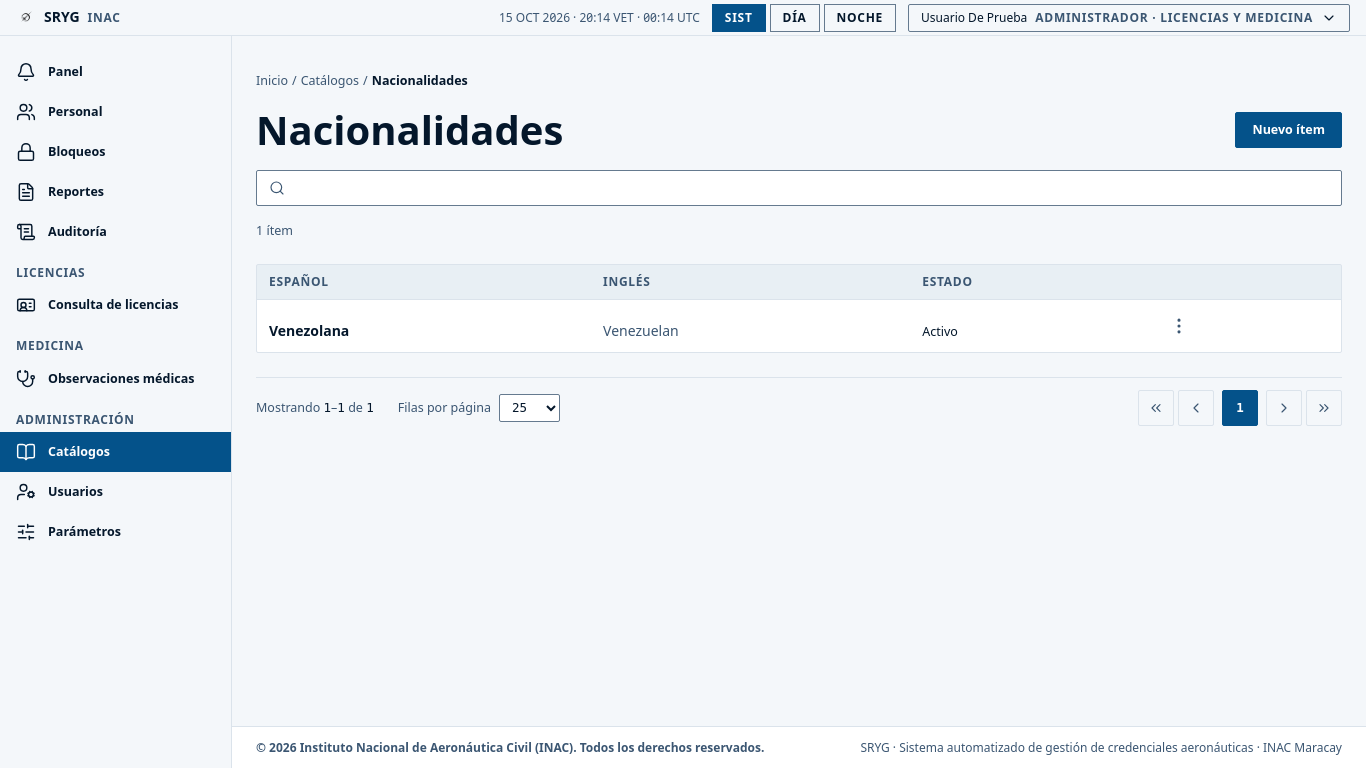
Test case: /catalogos/:catalogo (D19) › edits an item and sends only what changed
Click the button named "Acciones de Venezolana" at point(1179, 326), box [1161,308,1197,344]
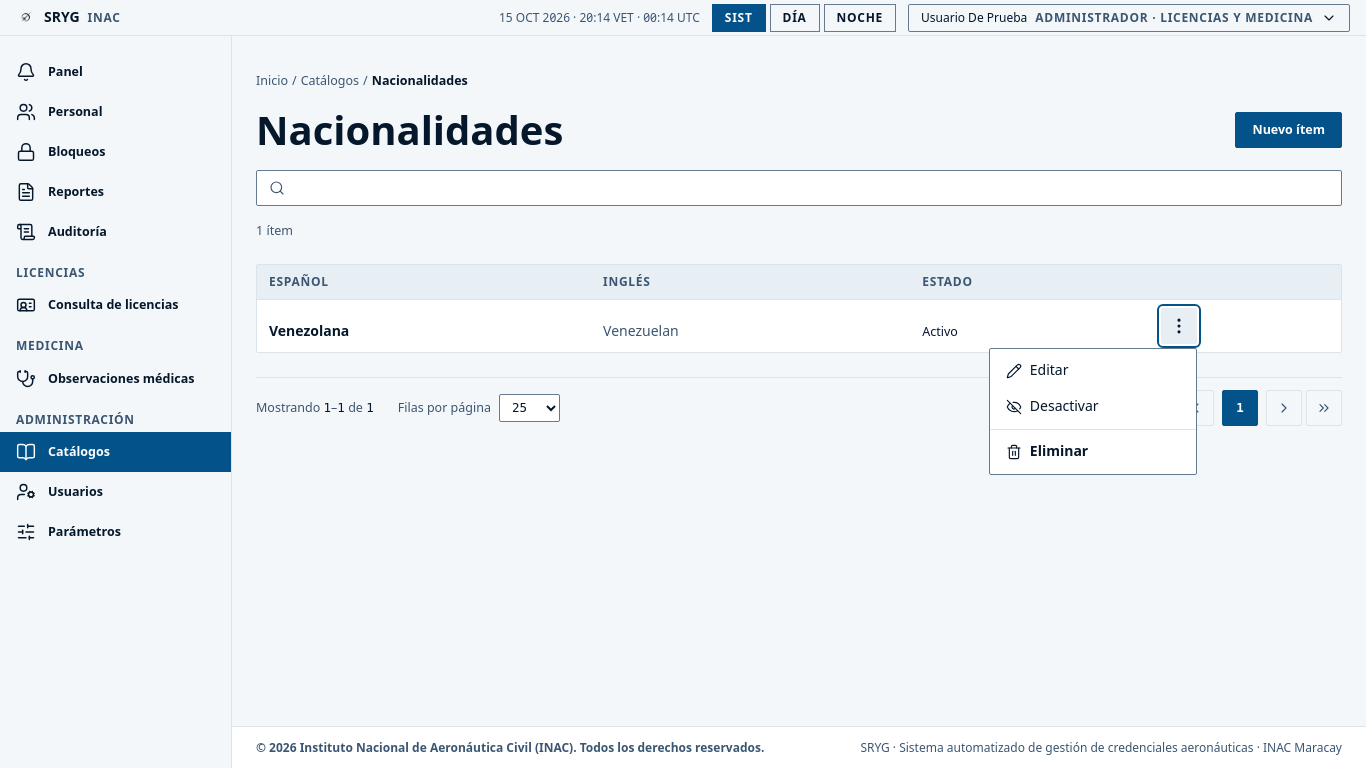
Click the menu item "Editar" at point(1093, 371), box [990,353,1196,389]
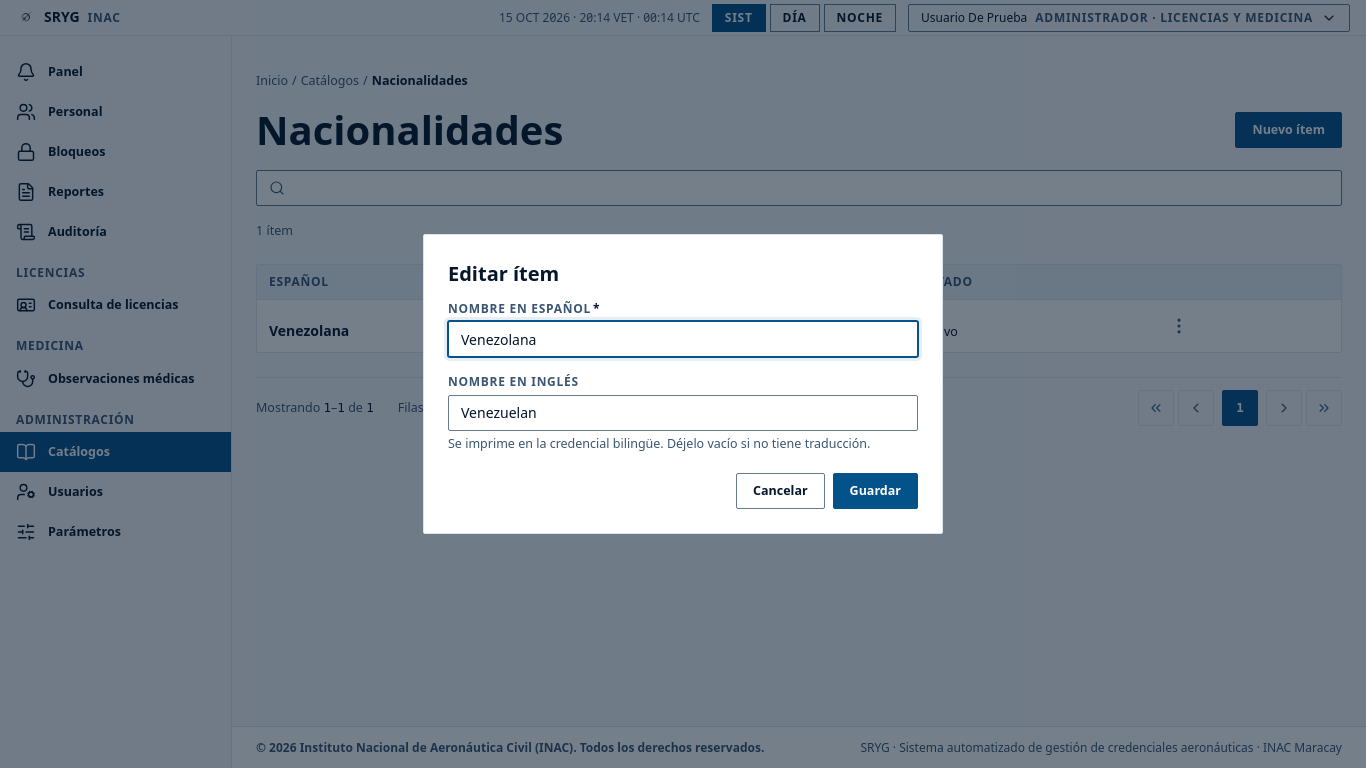
Now the field labelled "Nombre en inglés" holds "Venezuelan"
Replace the text in the field labelled "Nombre en inglés" with "Venezuelan (VE)" at point(683, 413), box [448,395,918,431]
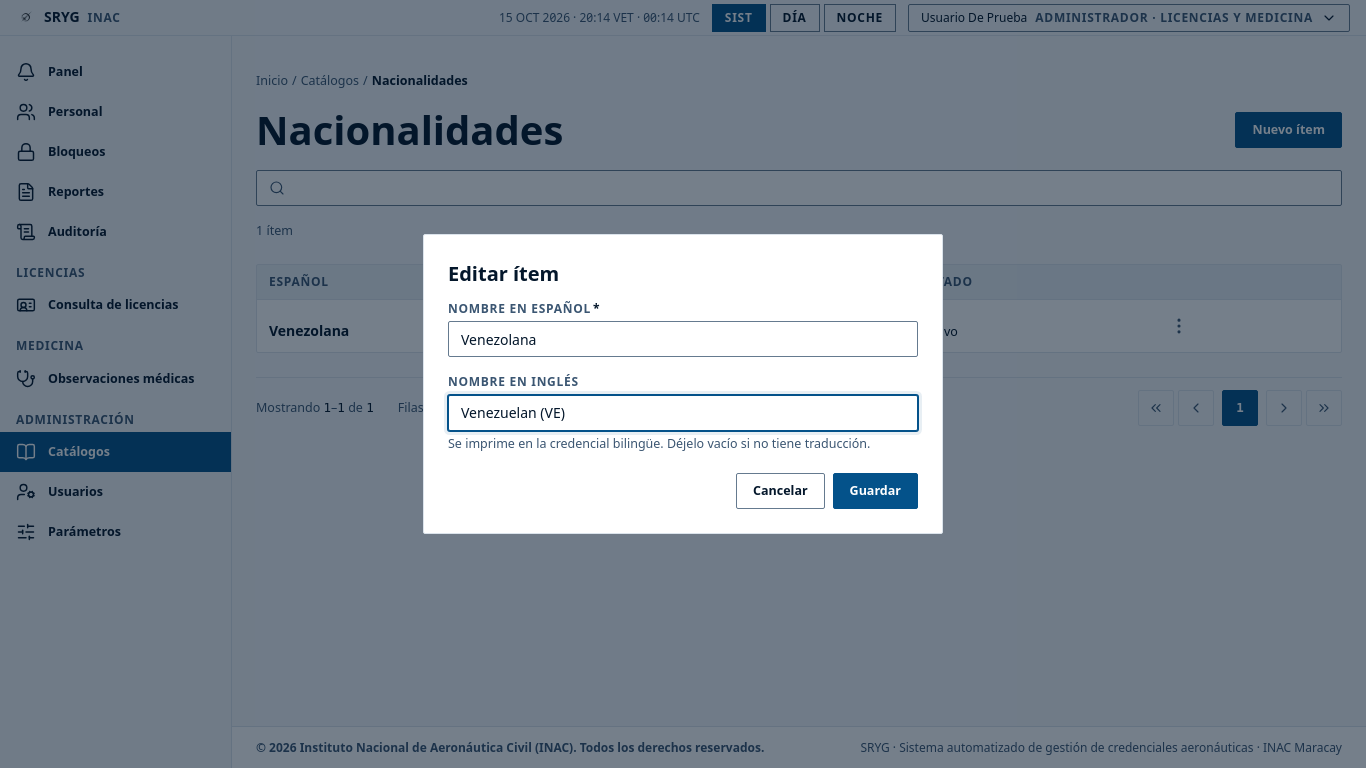
Click the button "Guardar" at point(875, 491), box [833,473,918,509]
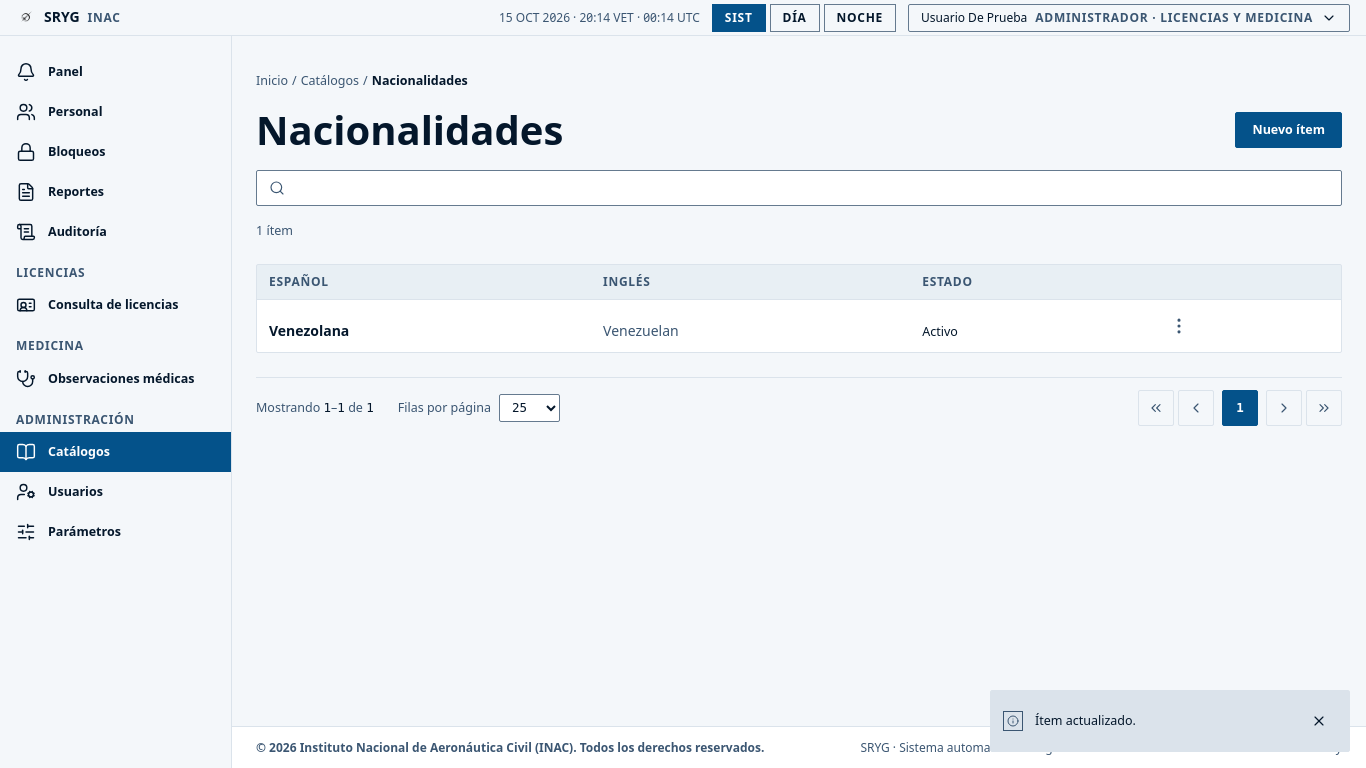
Now the heading "Editar ítem" is gone
